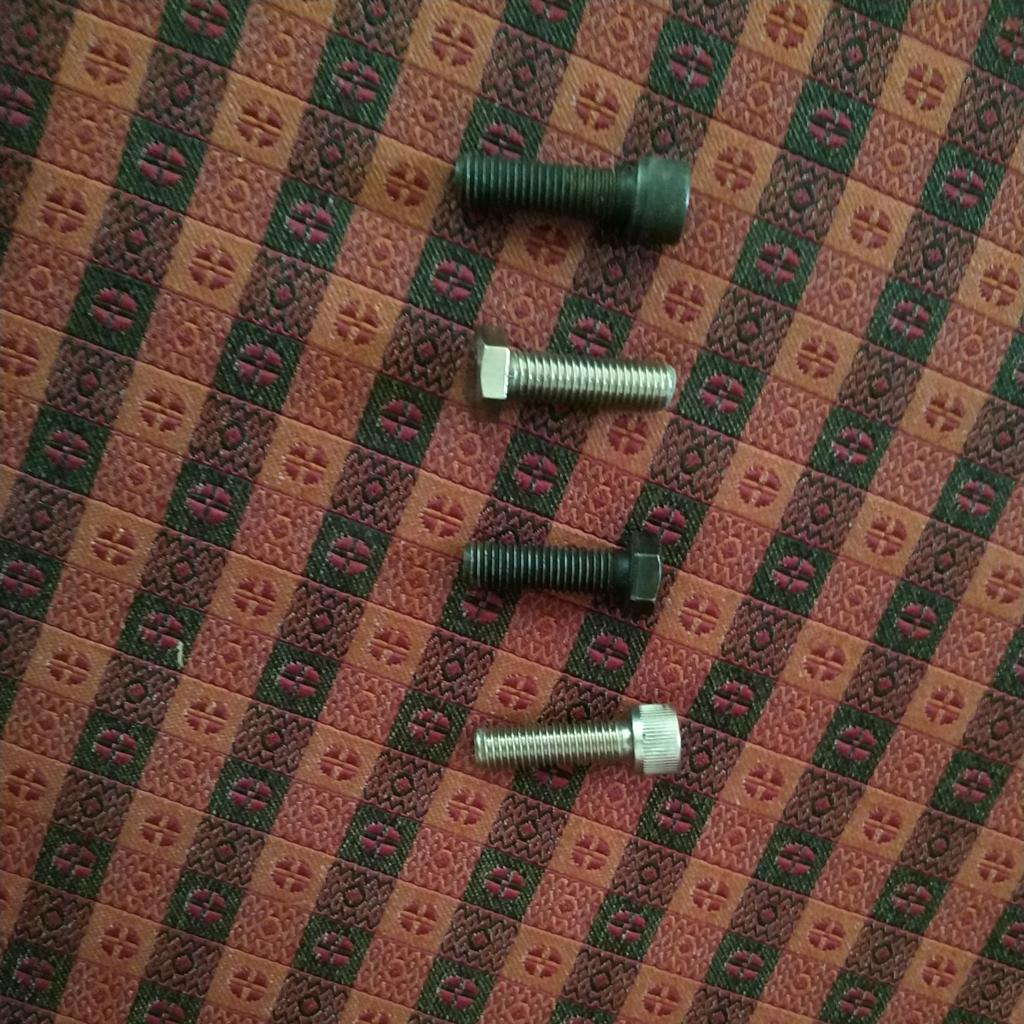screwtype1black: (450, 140, 694, 246)
screwtype1silver: (465, 695, 687, 783)
screwtype2black: (457, 524, 667, 622)
screwtype2silver: (469, 322, 682, 428)
